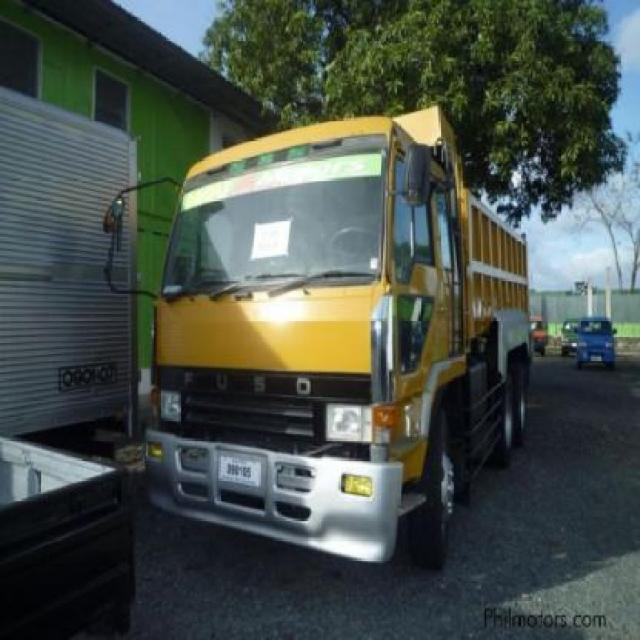truck: (108, 100, 536, 564)
